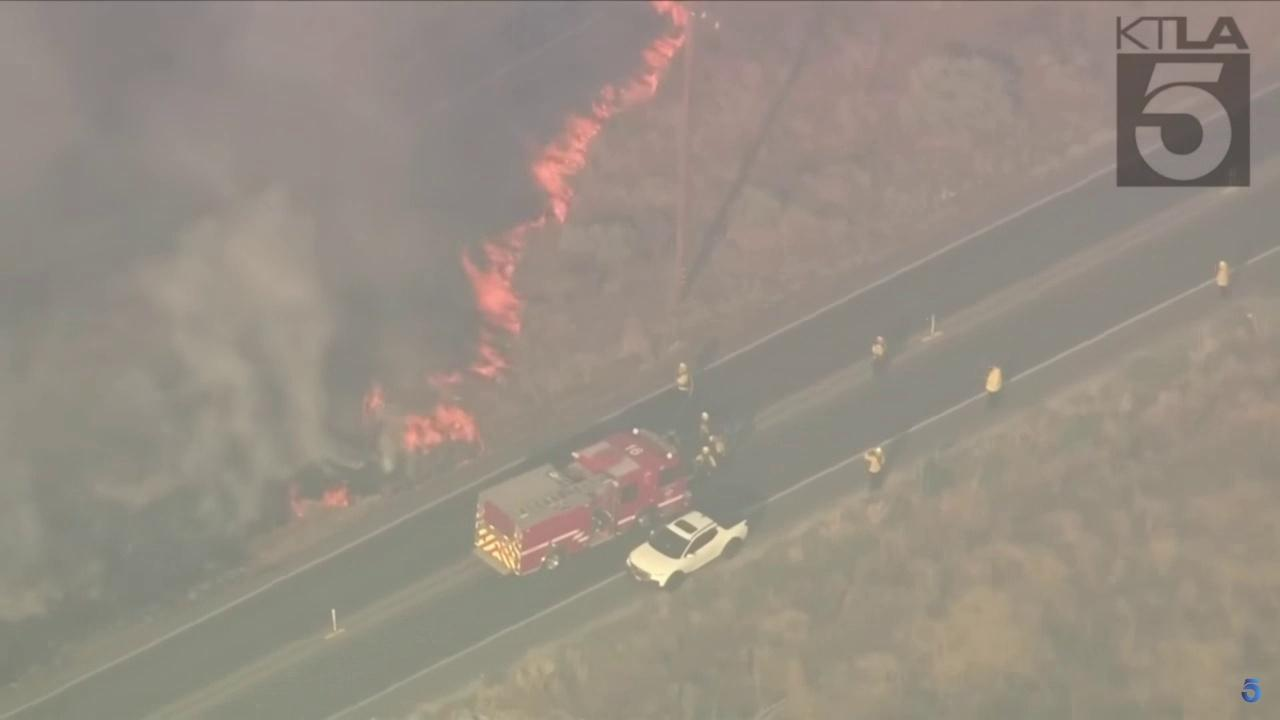fire: (460, 0, 693, 378), (401, 403, 478, 446), (320, 480, 350, 509), (360, 387, 387, 419), (424, 369, 464, 387)
smoke: (0, 0, 675, 622)
